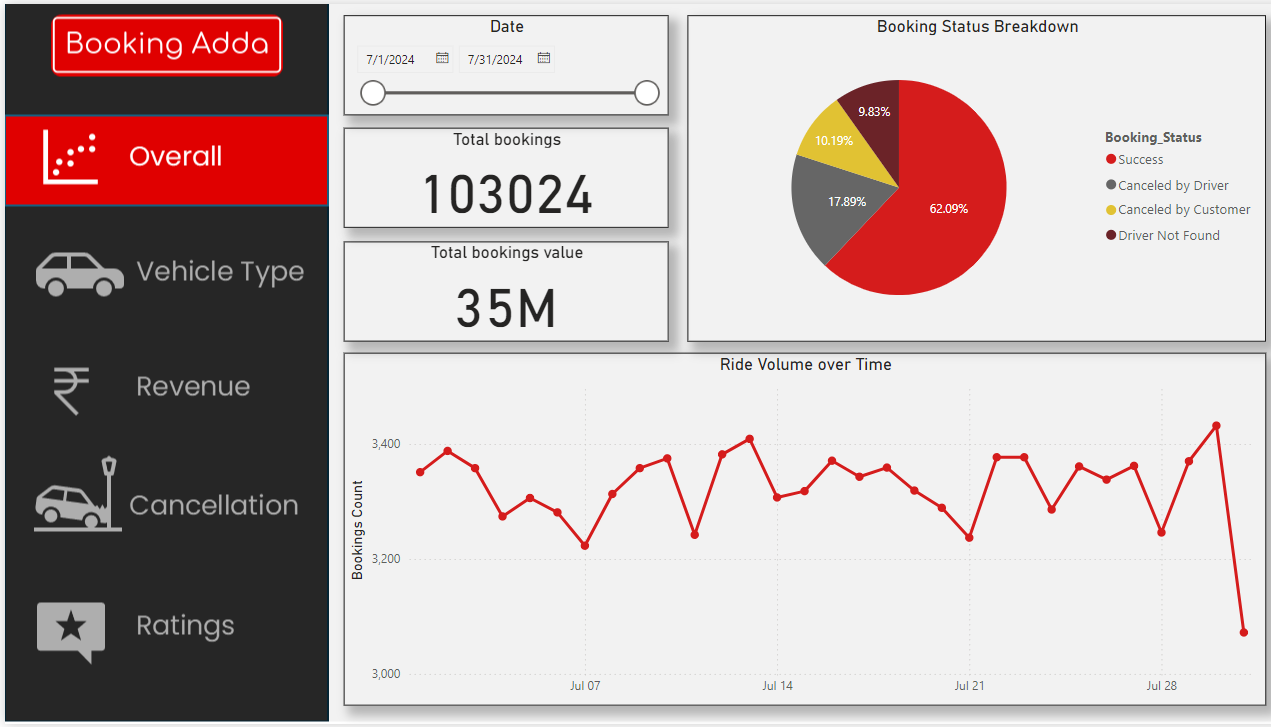

Layout of this report page (visuals, bound fields, positions):
{"tool":"powerbi","page":{"name":"Overall","canvas":[1280,720],"ordinal":0},"visuals":[{"type":"actionButton","box":[0,223.2,322.1,90.5],"z":0},{"type":"actionButton","box":[1.2,337.8,322.1,90.5],"z":1000},{"type":"actionButton","box":[1.2,450,322.1,90.5],"z":2000},{"type":"actionButton","box":[2.4,576.7,322.1,90.5],"z":3000},{"type":"lineChart","title":"Ride Volume over Time","fields":{"Y":["CountNonNull(Table1.Booking_ID)"],"Category":["Table1.Date"]},"box":[338.8,348.8,922.5,352.5],"z":4000},{"type":"pieChart","title":"Booking Status Breakdown","fields":{"Category":["Table1.Booking_Status"],"Y":["CountNonNull(Table1.Booking_ID)"]},"box":[682.5,11.2,578.8,326.2],"z":5000},{"type":"slicer","title":"Date","fields":{"Values":["Table1.Date"]},"box":[338.8,11.2,325,100],"z":6000},{"type":"card","title":"Total bookings","fields":{"Values":["CountNonNull(Table1.Booking_ID)"]},"box":[338.8,123.8,325,100],"z":7000},{"type":"card","title":"Total bookings value","fields":{"Values":["Sum(Table1.Booking_Value)"]},"box":[338.8,237.5,325,100],"z":8000}]}

Visuals, with their boxes in screenshot pixels (x1, y1, x2, y2), scaled from the page's 1280x720 canvas onto the 1271x727 screenshot:
actionButton: box(0, 225, 320, 317)
actionButton: box(1, 341, 321, 432)
actionButton: box(1, 454, 321, 546)
actionButton: box(2, 582, 322, 674)
"Ride Volume over Time" lineChart: box(336, 352, 1252, 708)
"Booking Status Breakdown" pieChart: box(678, 11, 1252, 341)
"Date" slicer: box(336, 11, 659, 112)
"Total bookings" card: box(336, 125, 659, 226)
"Total bookings value" card: box(336, 240, 659, 341)
